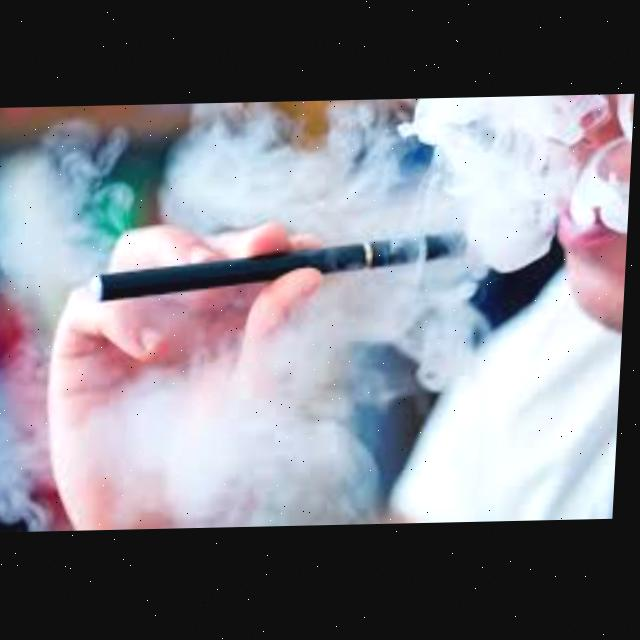vape: (94, 232, 470, 302)
